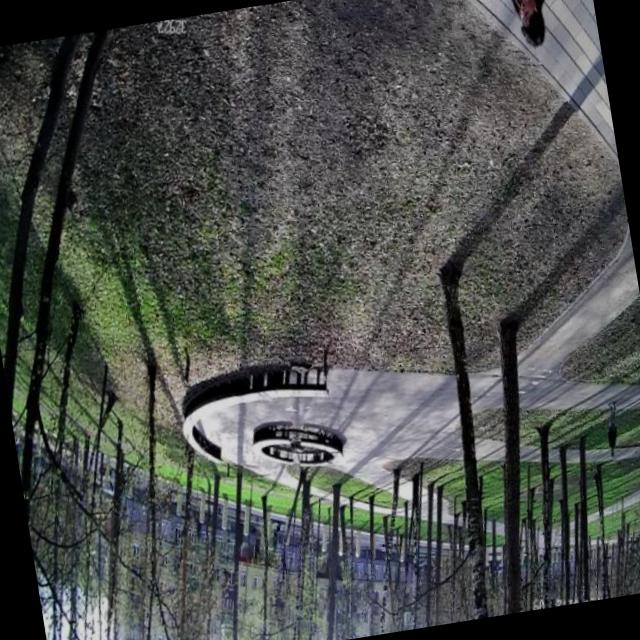person: (481, 0, 564, 59)
